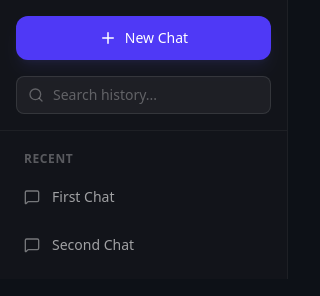
Test: Sidebar Component › filters conversations based on search input
The image size is (320, 296).
Expected: the text "First Chat" is shown, [52,187,122,207]
Type "Second" into the field with placeholder "Search history..." at {"x": 144, "y": 95}, box [16,76,271,114]
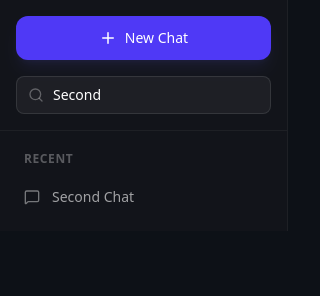
Expected: the text "Second Chat" is shown, [52,187,142,207]
Result: the button "First Chat" is gone
